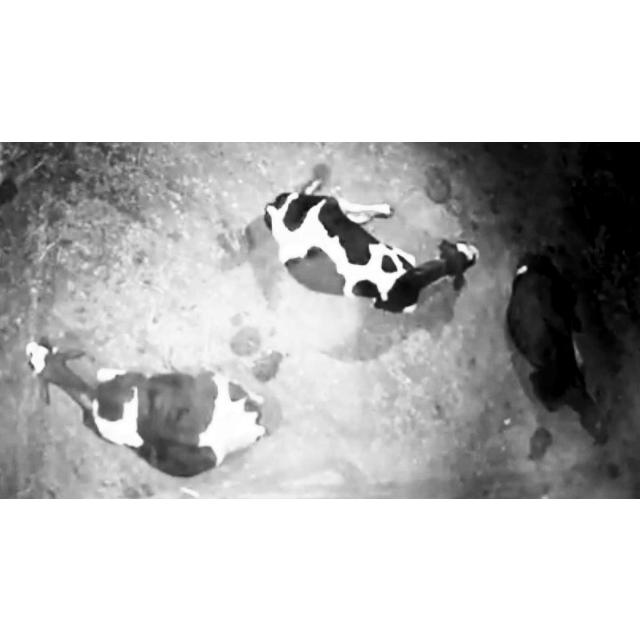lay: (18, 331, 276, 464), (258, 170, 482, 312), (503, 238, 612, 447)
